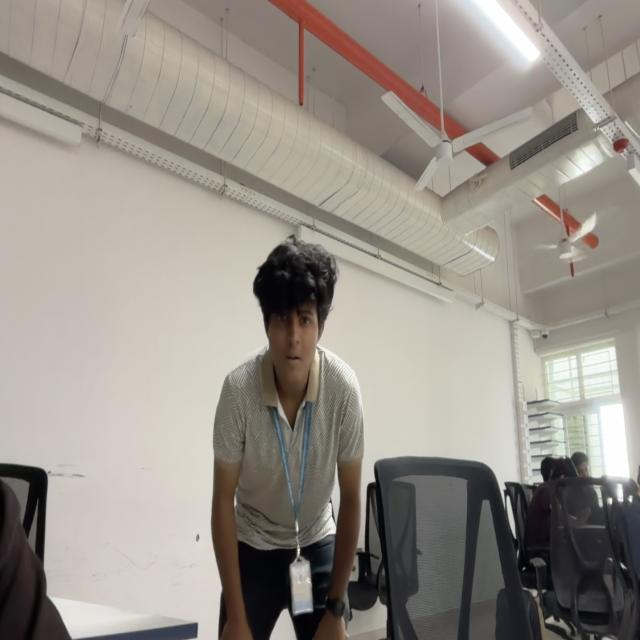kshitij: (251, 242, 338, 387)
